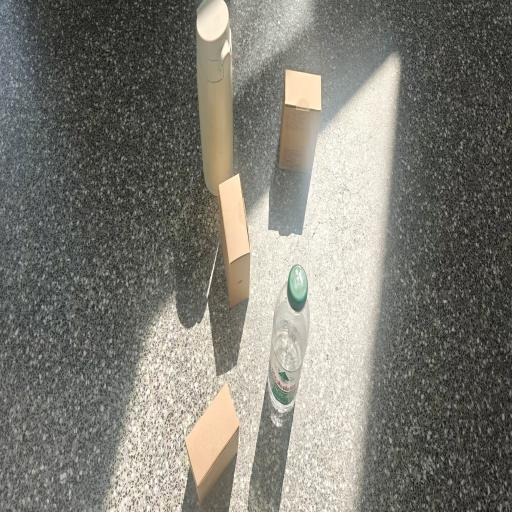bottle: (196, 0, 233, 196), (268, 264, 309, 414)
box: (186, 382, 239, 502), (279, 69, 322, 172), (218, 174, 250, 307)
